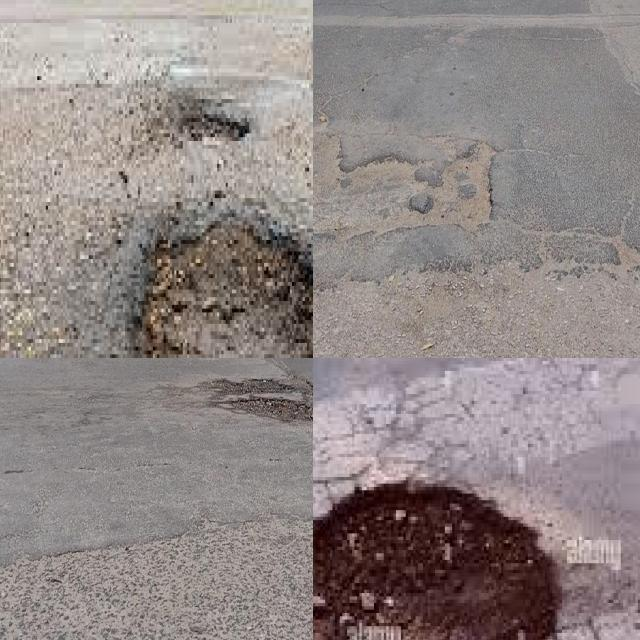Pothole: (313, 480, 562, 640), (144, 210, 313, 358), (409, 131, 495, 235), (341, 148, 416, 241), (207, 377, 313, 424)
